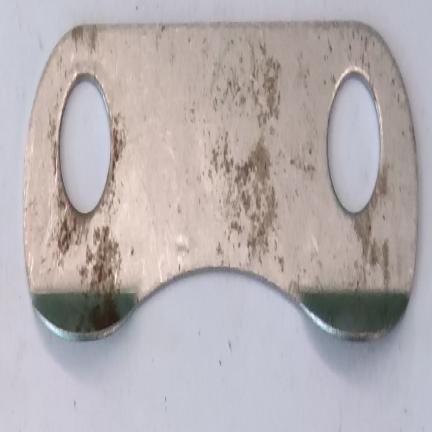besi_tidak_karat: (23, 21, 417, 339)
karat: (228, 130, 275, 247), (53, 192, 86, 254), (354, 204, 371, 259), (370, 257, 377, 266)
